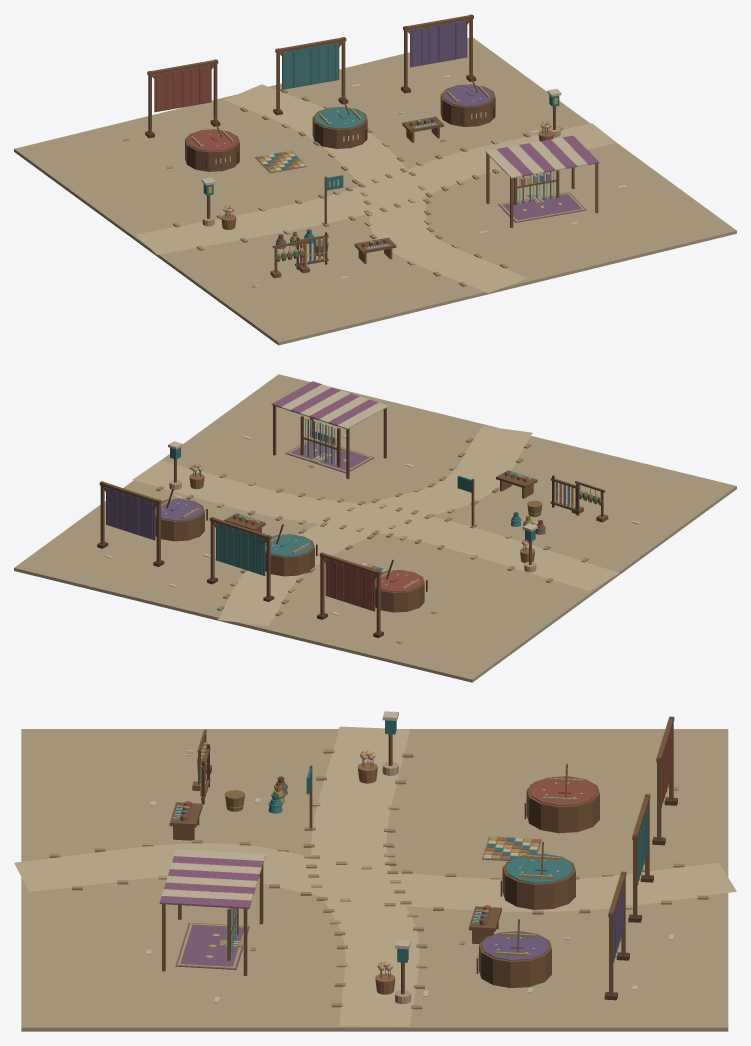
Rendered from city-dye.glb.
3 views of the same model, one above another, from view 1: azimuth 30°, elevation 25°; view 2: azimuth 150°, elevation 25°; view 3: azimuth 270°, elevation 25° (orthographic). The views are drawn at different scales.
Parts seen in each view (by area): view 1: city-dye; view 2: city-dye; view 3: city-dye.
Part boxes in pixels (left/top/right/bottom): city-dye: left=14, top=14, right=736, bottom=345; city-dye: left=14, top=374, right=736, bottom=682; city-dye: left=14, top=711, right=736, bottom=1031.
Size of the model in its own units: 32.2 by 4.52 by 32.74.
